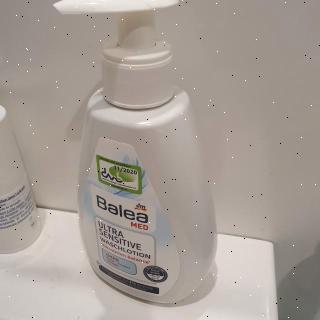Plastic-bottle: (50, 1, 226, 308), (1, 96, 45, 260)
